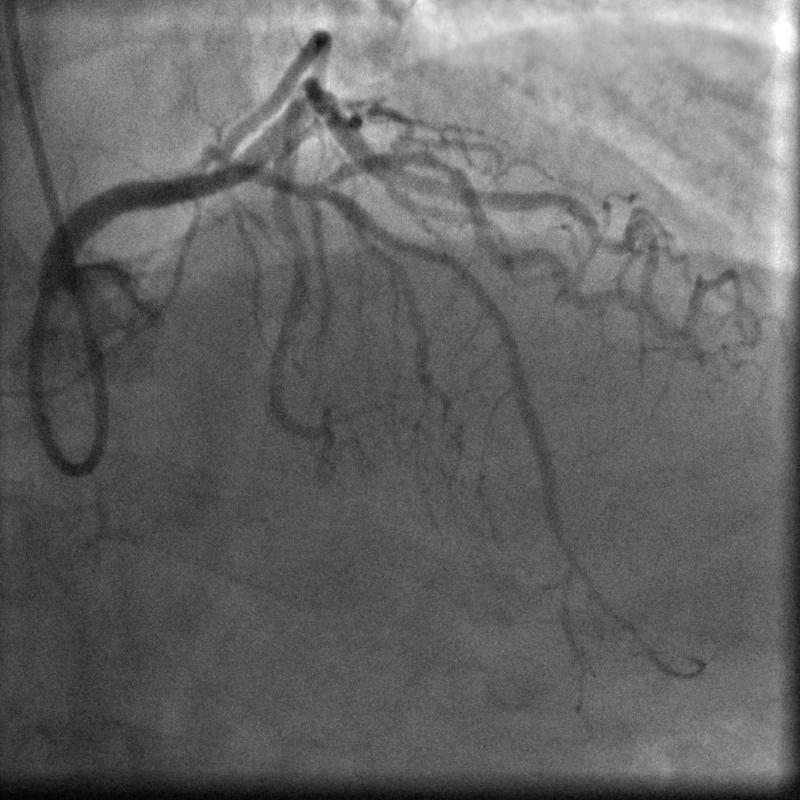Stenosis: (413, 146, 471, 185)
